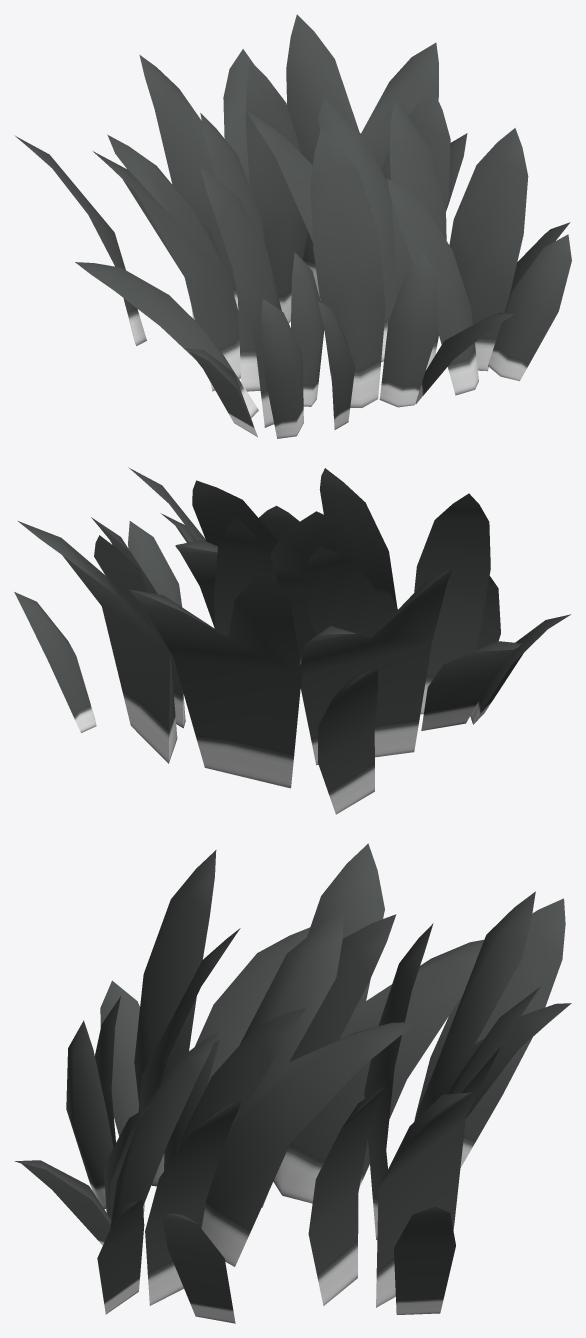
Rendered from plant_1.fbx.
3 views of the same model, one above another, from view 1: azimuth 30°, elevation 25°; view 2: azimuth 150°, elevation 25°; view 3: azimuth 270°, elevation 25° (orthographic). The views are drawn at different scales.
Visible parts, largest first — view 1: plant_1; view 2: plant_1; view 3: plant_1.
Boxes of the visible parts, x1=… form: plant_1: x1=14, y1=14, x2=571, y2=438; plant_1: x1=14, y1=467, x2=570, y2=814; plant_1: x1=14, y1=843, x2=571, y2=1323.
Bounding box in the file's own units: 1.24 × 0.6977 × 1.11.
